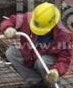boots: (52, 0, 73, 22)
gloves: (44, 68, 59, 86), (4, 26, 17, 38)
hard-hat: (28, 1, 61, 34)
ppe-suit: (0, 0, 73, 88)
vest: (2, 13, 73, 73)
